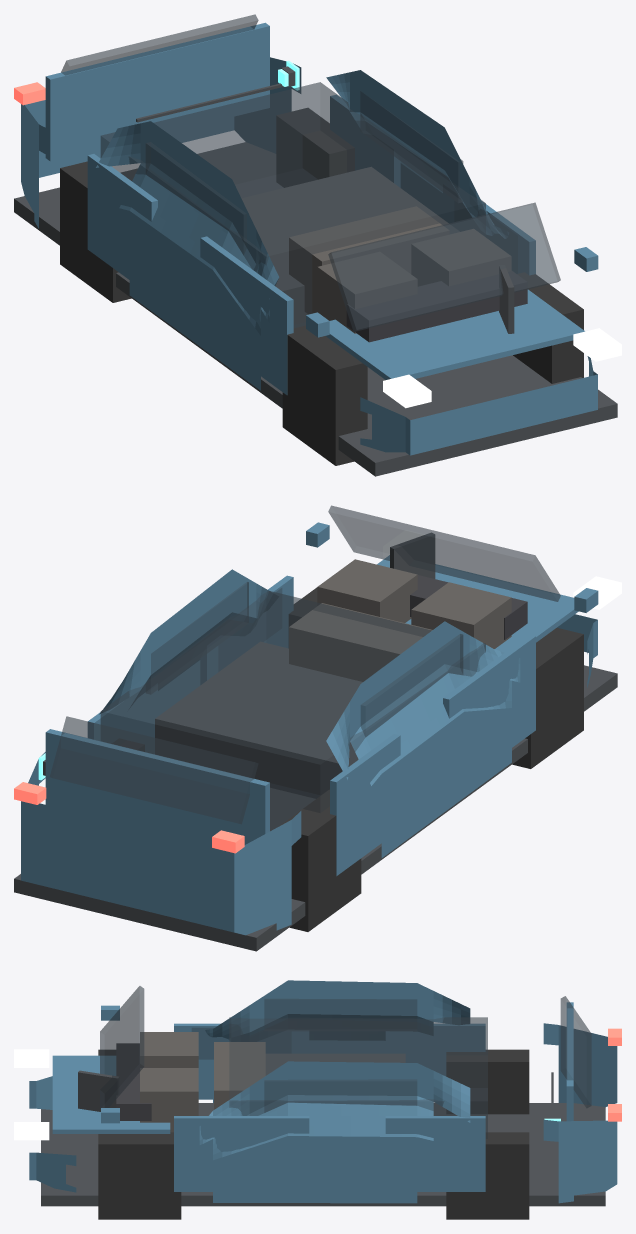
The model's file is sport_sedan_lod.525b965dcc.glb.
3 views of the same model, one above another, from view 1: azimuth 30°, elevation 25°; view 2: azimuth 150°, elevation 25°; view 3: azimuth 270°, elevation 25° (orthographic). The views are drawn at different scales.
Parts seen in each view (by area): view 1: body_mesh, cab_mesh, liftgate_mesh, windshield, trim_mesh, frunk_mesh, wheel_well_mesh, tire_fr, seat_rear, dash, door_fr_mesh, door_rr_mesh (+14 smaller); view 2: body_mesh, cab_mesh, wheel_well_mesh, liftgate_mesh, rear_glass, windshield, trim_mesh, seat_rear, tire_fr, tire_rr, door_rr_mesh, door_fr_mesh (+10 smaller); view 3: body_mesh, cab_mesh, trim_mesh, tire_fl, door_rl_mesh, door_fl_mesh, tire_rl, window_fixed_r, tire_rr, frunk_mesh, window_fixed_l, windshield (+13 smaller).
Part boxes in pixels (bbox=[...]): body_mesh: bbox=[21, 57, 597, 455]; cab_mesh: bbox=[100, 82, 485, 328]; liftgate_mesh: bbox=[45, 22, 269, 161]; windshield: bbox=[328, 202, 560, 331]; trim_mesh: bbox=[14, 142, 617, 476]; frunk_mesh: bbox=[326, 289, 584, 379]; wheel_well_mesh: bbox=[241, 167, 459, 327]; tire_fr: bbox=[282, 325, 367, 465]; seat_rear: bbox=[289, 206, 449, 314]; dash: bbox=[346, 271, 527, 342]; door_fr_mesh: bbox=[200, 236, 293, 394]; door_rr_mesh: bbox=[87, 154, 157, 279]; body_mesh: bbox=[21, 569, 597, 935]; cab_mesh: bbox=[100, 591, 485, 830]; wheel_well_mesh: bbox=[155, 641, 362, 798]; liftgate_mesh: bbox=[45, 729, 269, 845]; rear_glass: bbox=[50, 716, 258, 824]; windshield: bbox=[328, 505, 560, 601]; trim_mesh: bbox=[14, 665, 617, 951]; seat_rear: bbox=[289, 603, 432, 681]; tire_fr: bbox=[512, 627, 583, 768]; tire_rr: bbox=[278, 789, 361, 931]; door_rr_mesh: bbox=[330, 734, 400, 876]; door_fr_mesh: bbox=[443, 634, 535, 747]; body_mesh: bbox=[29, 980, 617, 1203]; cab_mesh: bbox=[229, 1017, 487, 1138]; trim_mesh: bbox=[41, 1103, 605, 1206]; tire_fl: bbox=[98, 1132, 181, 1219]; door_rl_mesh: bbox=[385, 1116, 485, 1191]; door_fl_mesh: bbox=[174, 1116, 309, 1191]; tire_rl: bbox=[446, 1132, 529, 1219]; window_fixed_r: bbox=[264, 999, 416, 1030]; tire_rr: bbox=[446, 1049, 529, 1114]; frunk_mesh: bbox=[52, 1055, 170, 1133]; window_fixed_l: bbox=[264, 1079, 416, 1112]; windshield: bbox=[100, 986, 144, 1109].
Size of the model in its own units: 2.15 by 1.42 by 5.17.
